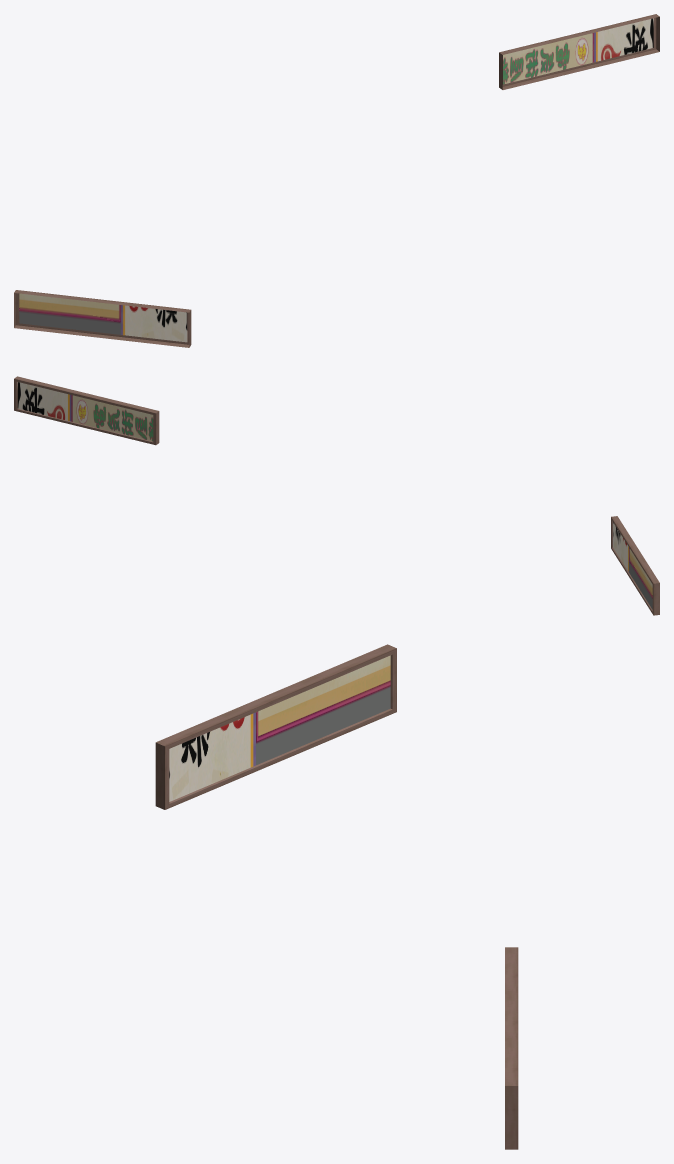
File: SM_ENV_KNVLLG_Signs_2.fbx
3 views of the same model, one above another, from view 1: azimuth 30°, elevation 25°; view 2: azimuth 150°, elevation 25°; view 3: azimuth 270°, elevation 25° (orthographic). The views are drawn at different scales.
Visible parts, largest first — view 1: SM_ENV_KNVLLG_Signs_2.mo; view 2: SM_ENV_KNVLLG_Signs_2.mo; view 3: SM_ENV_KNVLLG_Signs_2.mo.
Part boxes in pixels (box(x1,y1,x2,y2)): SM_ENV_KNVLLG_Signs_2.mo: box(14, 14, 659, 347); SM_ENV_KNVLLG_Signs_2.mo: box(14, 376, 659, 615); SM_ENV_KNVLLG_Signs_2.mo: box(155, 644, 518, 1149).
Bounding box in the file's own units: 4462 × 767 × 1143.
